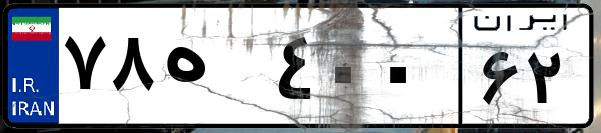0: (385, 28, 445, 110), (330, 28, 385, 110)
2: (525, 38, 570, 115)
4: (270, 28, 330, 110)
6: (475, 38, 525, 113)
7: (57, 26, 110, 100)
8: (110, 28, 158, 98)
ه: (158, 20, 270, 120)
